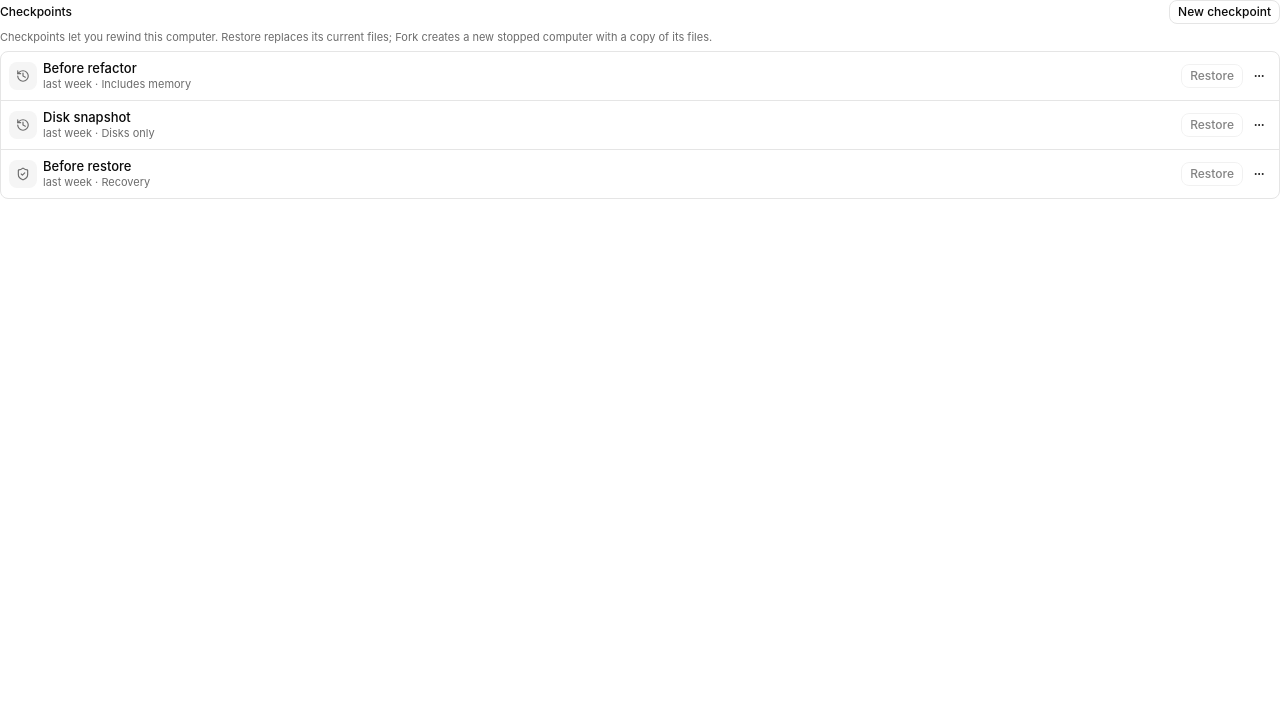
Test: notifies about a failed create with Retry instead of inserting an error
The image size is (1280, 720).
Click the button "New checkpoint" at x=1225, y=12, box [1169,0,1279,24]
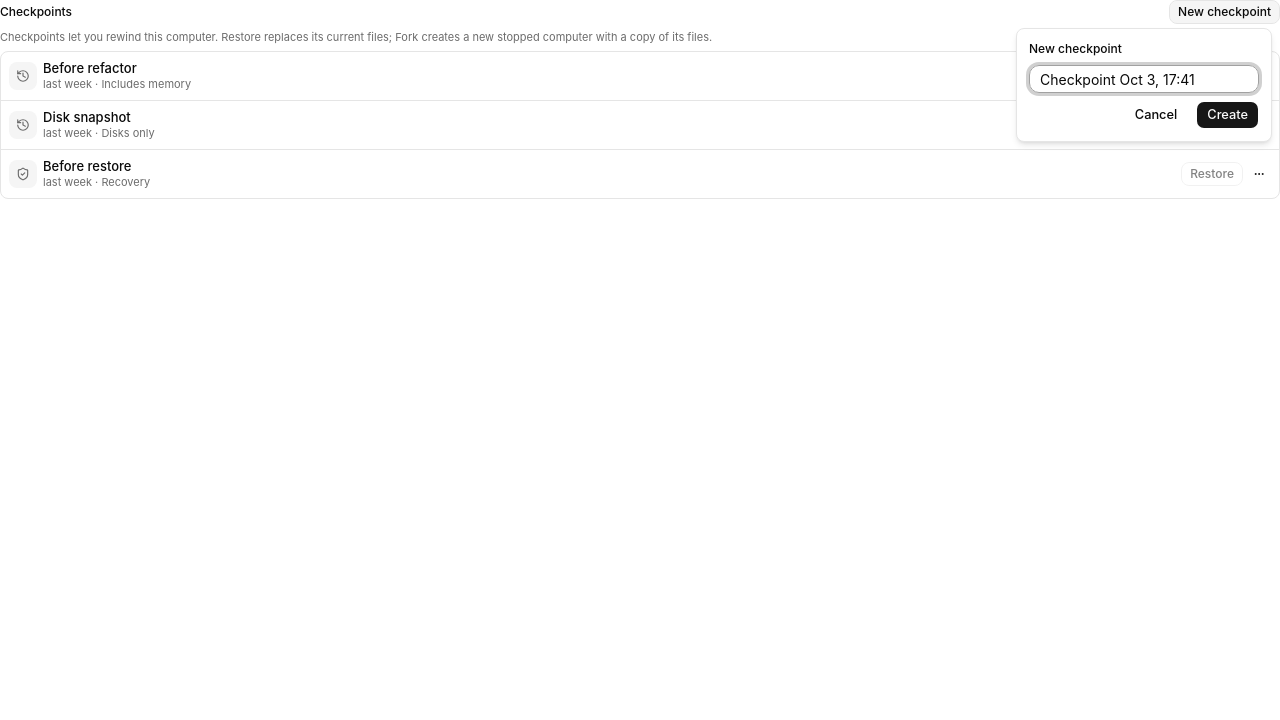
Replace the text in the field named "Checkpoint name" with "before deploy" at x=1144, y=79, box [1029,65,1259,93]
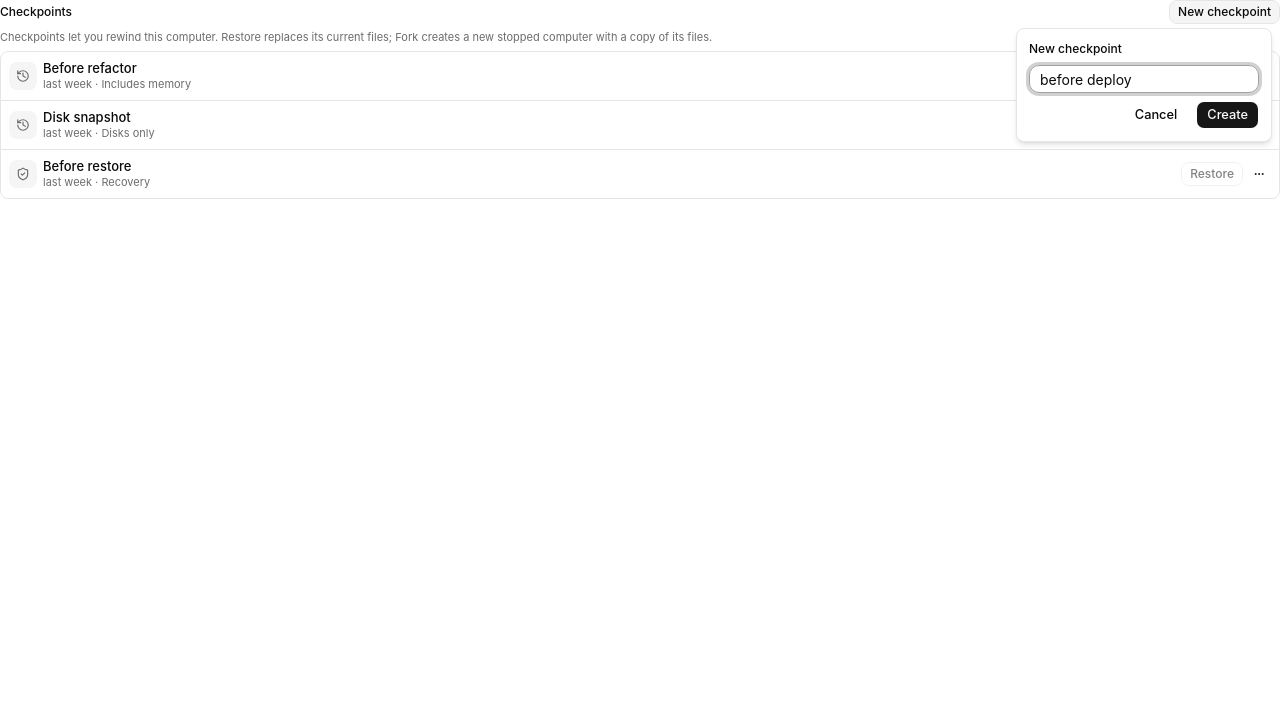
Click the button "Create" at x=1228, y=115, box [1196,101,1259,129]
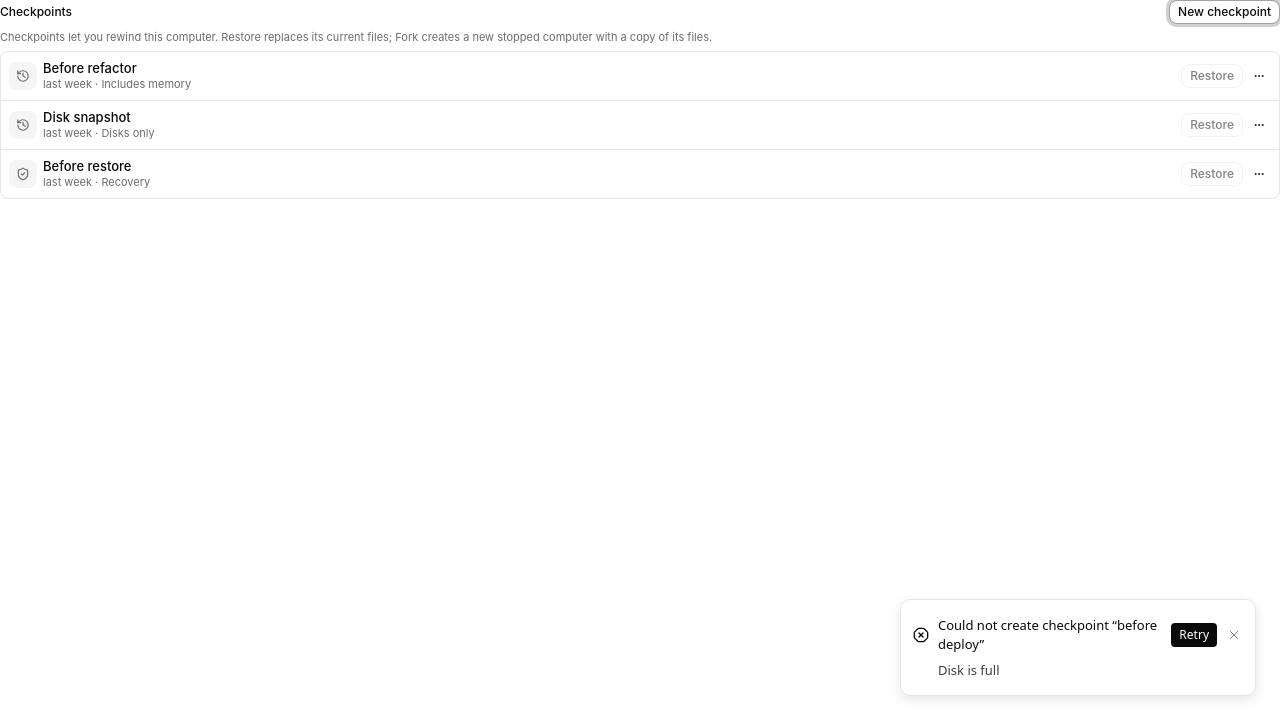
Now the text "Disk is full" is shown, box [938,661,1000,679]
Now the text "Could not create checkpoint “before deploy”" is shown, box [938,616,1165,655]
Click the button "Retry" at x=1194, y=635, box [1171,623,1217,647]
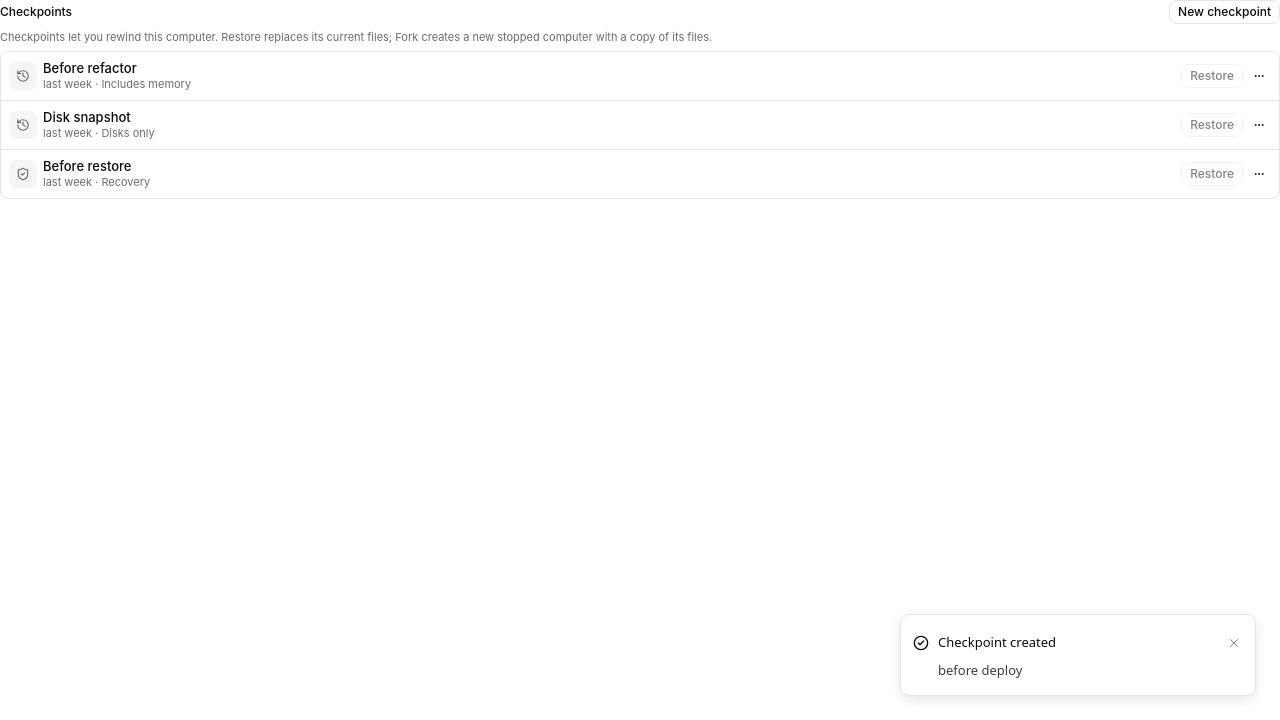
Now the text "Checkpoint created" is shown, box [938,633,1056,651]
